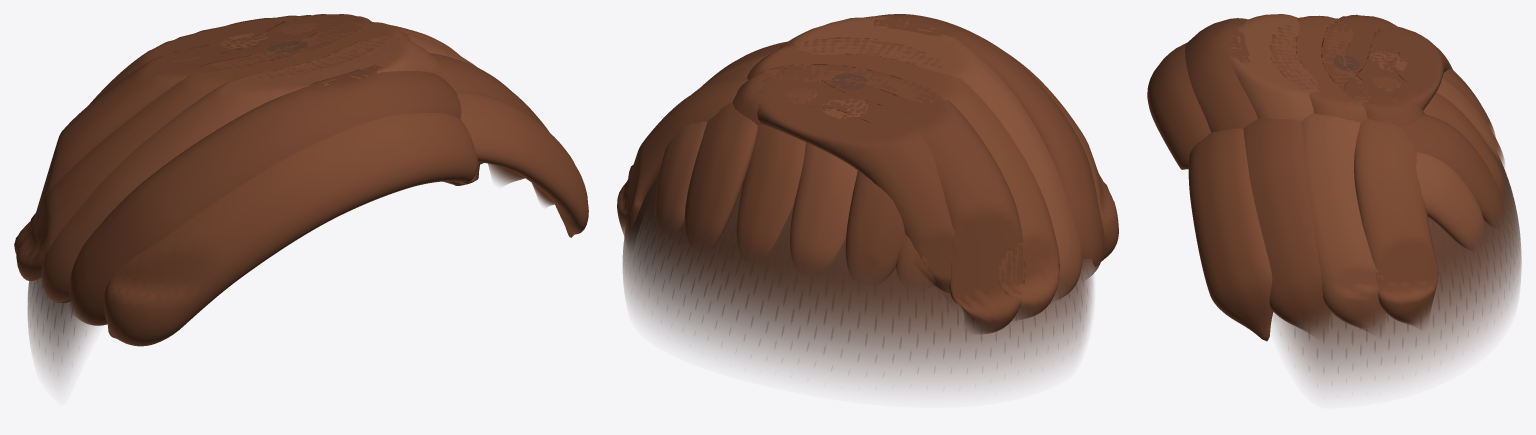
File: Masculine-taper-bucket258-hair.glb
3 renders of one model, left to right at view 1: azimuth 30°, elevation 25°; view 2: azimuth 150°, elevation 25°; view 3: azimuth 270°, elevation 25°, orthographic. The views are drawn at different scales.
Visible parts, largest first — view 1: 226 hair / Hair258 / sculpted side sweep 1, 226 hair / Hair258 / sculpted side sweep 0, 226 hair / Hair258 / sculpted side sweep 2, 226 hair / Hair258 / smooth side fade; view 2: 226 hair / Hair258 / sculpted side sweep 0, 226 hair / Hair258 / smooth side fade, 226 hair / Hair258 / sculpted side sweep 1, 226 hair / Hair258 / sculpted side sweep 2, 226 hair / Hair258 / directional fade marks; view 3: 226 hair / Hair258 / sculpted side sweep 1, 226 hair / Hair258 / sculpted side sweep 0, 226 hair / Hair258 / sculpted side sweep 2, 226 hair / Hair258 / smooth side fade, 226 hair / Hair258 / directional fade marks.
Part boxes in pixels (box(x1,y1,x2,y2)): 226 hair / Hair258 / sculpted side sweep 1: box(16, 21, 588, 346); 226 hair / Hair258 / sculpted side sweep 0: box(14, 14, 554, 325); 226 hair / Hair258 / sculpted side sweep 2: box(41, 32, 524, 302); 226 hair / Hair258 / smooth side fade: box(27, 40, 308, 382); 226 hair / Hair258 / sculpted side sweep 0: box(684, 14, 1104, 333); 226 hair / Hair258 / smooth side fade: box(623, 73, 1092, 388); 226 hair / Hair258 / sculpted side sweep 1: box(617, 37, 1118, 320); 226 hair / Hair258 / sculpted side sweep 2: box(628, 15, 1082, 299); 226 hair / Hair258 / directional fade marks: box(631, 175, 1087, 362); 226 hair / Hair258 / sculpted side sweep 1: box(1147, 15, 1505, 341); 226 hair / Hair258 / sculpted side sweep 0: box(1185, 14, 1504, 331); 226 hair / Hair258 / sculpted side sweep 2: box(1226, 14, 1504, 328); 226 hair / Hair258 / smooth side fade: box(1272, 55, 1521, 389); 226 hair / Hair258 / directional fade marks: box(1295, 149, 1516, 371).
Bounding box in the file's own units: 0.9751 × 0.6123 × 0.7505.
